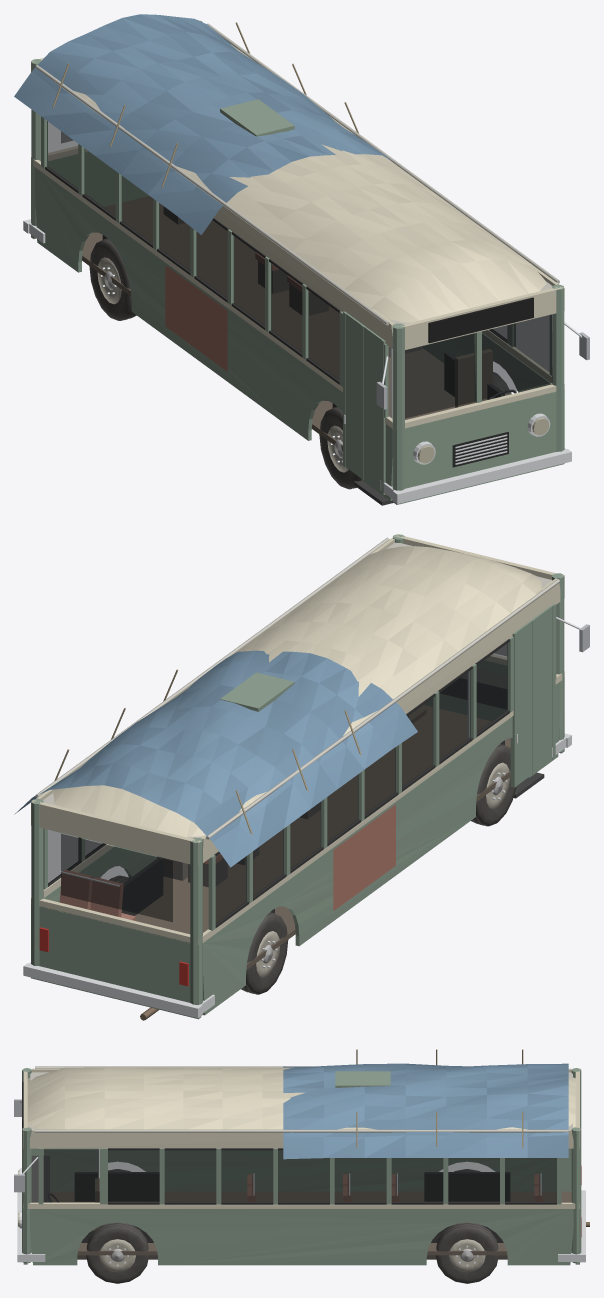
Rendered from festival_bus_garage.glb.
3 views of the same model, one above another, from view 1: azimuth 30°, elevation 25°; view 2: azimuth 150°, elevation 25°; view 3: azimuth 270°, elevation 25° (orthographic). The views are drawn at different scales.
Visible parts, largest first — view 1: body, door, wheel_rr, destination_board, wheel_fr; view 2: body, door, wheel_rr, wheel_fr; view 3: body, wheel_fl, wheel_rl.
Part boxes in pixels (<box>): body: <box>14,14,589,505</box>; door: <box>343,311,385,494</box>; wheel_rr: <box>89,238,136,320</box>; destination_board: <box>428,297,533,343</box>; wheel_fr: <box>319,407,361,489</box>; body: <box>14,534,589,1020</box>; door: <box>510,604,555,787</box>; wheel_rr: <box>241,912,288,994</box>; wheel_fr: <box>471,744,516,826</box>; body: <box>14,1049,589,1265</box>; wheel_fl: <box>86,1222,149,1283</box>; wheel_rl: <box>435,1222,498,1283</box>.
Size of what is drawn, in the model's own units: 3.1 by 3.18 by 9.39.
